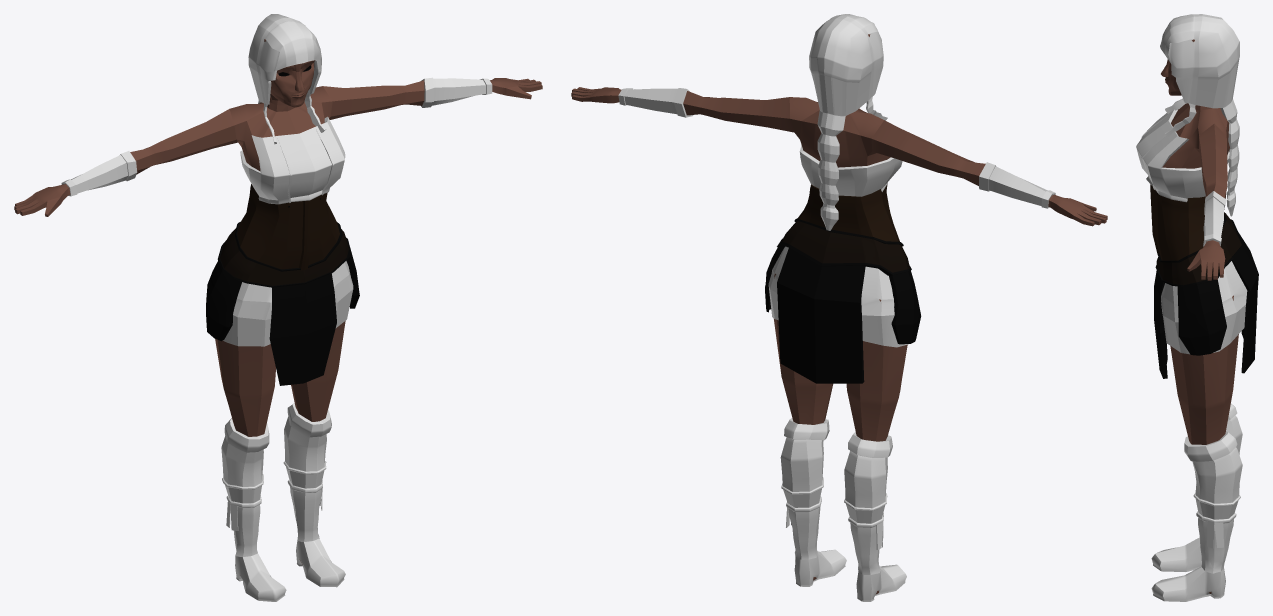
Rendered from Valkyrie.fbx.
3 views of the same model, side by side, from view 1: azimuth 30°, elevation 25°; view 2: azimuth 150°, elevation 25°; view 3: azimuth 270°, elevation 25° (orthographic).
Visible parts, largest first — view 1: Valkyrie_Body, Valkyrie_Boots, Valkyrie_Waist, Valkyrie_Korset, Valkyrie_Shirt, Valkyrie_Hair, Valkyrie_Skirt, Valkyrie_Arms; view 2: Valkyrie_Body, Valkyrie_Waist, Valkyrie_Boots, Valkyrie_Hair, Valkyrie_Arms, Valkyrie_Korset, Valkyrie_Skirt, Valkyrie_Shirt; view 3: Valkyrie_Body, Valkyrie_Boots, Valkyrie_Waist, Valkyrie_Hair, Valkyrie_Shirt, Valkyrie_Korset, Valkyrie_Skirt, Valkyrie_Arms.
Part boxes in pixels (x1,y1,x2,y2): Valkyrie_Body: (14,39,542,564); Valkyrie_Boots: (221,403,345,601); Valkyrie_Waist: (206,222,359,385); Valkyrie_Korset: (237,184,339,270); Valkyrie_Shirt: (240,116,345,204); Valkyrie_Hair: (248,14,326,144); Valkyrie_Skirt: (223,261,353,346); Valkyrie_Arms: (61,77,492,196); Valkyrie_Body: (571,34,1107,594); Valkyrie_Waist: (765,218,921,383); Valkyrie_Boots: (780,418,906,601); Valkyrie_Hair: (809,14,887,230); Valkyrie_Arms: (618,88,1055,208); Valkyrie_Korset: (797,183,899,241); Valkyrie_Skirt: (768,246,908,347); Valkyrie_Shirt: (799,145,902,196); Valkyrie_Body: (1161,39,1238,593); Valkyrie_Boots: (1151,403,1242,601); Valkyrie_Waist: (1154,212,1258,378); Valkyrie_Hair: (1160,14,1239,216); Valkyrie_Shirt: (1136,109,1229,202); Valkyrie_Korset: (1150,184,1226,260); Valkyrie_Skirt: (1161,261,1247,354); Valkyrie_Arms: (1203,191,1226,246).
Bounding box in the file's own units: 2.98 × 3.03 × 0.5982.
